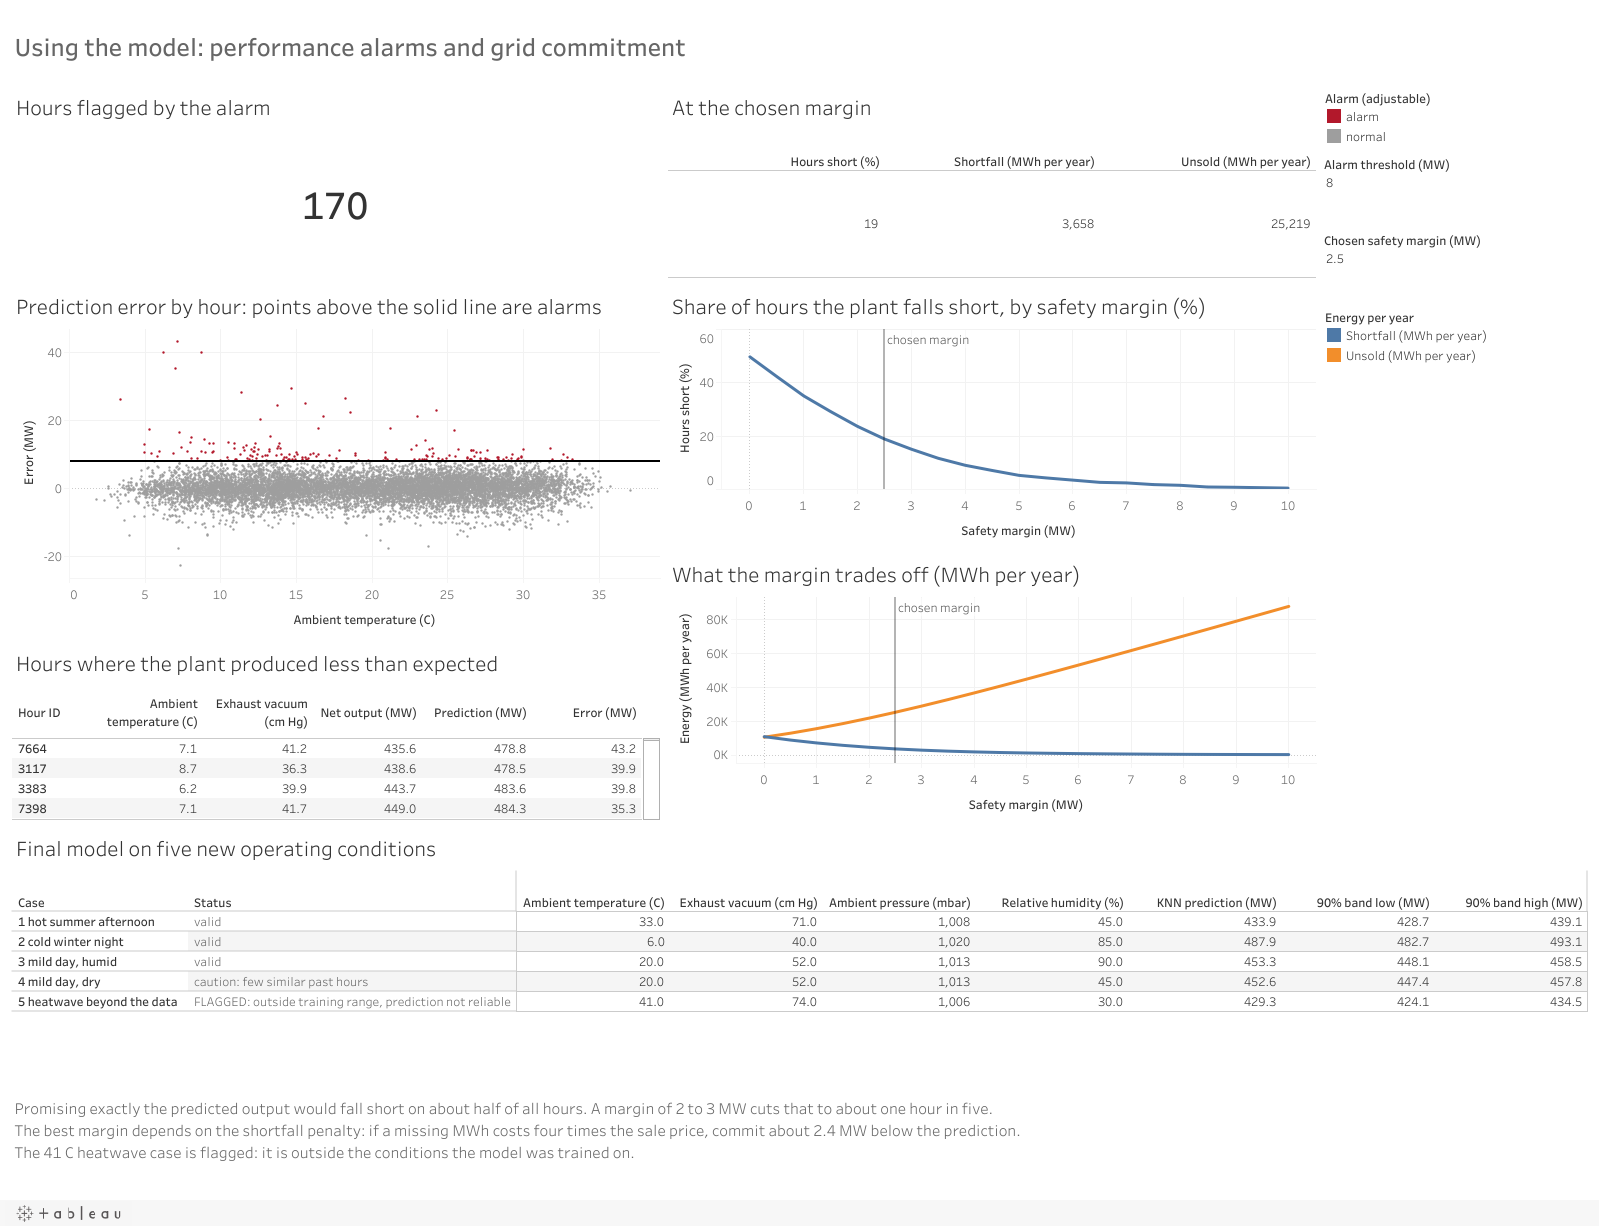

The dashboard page shown, as its layout file describes it:
{"tool":"tableau","page":{"name":"Decision support","canvas":[1600,1200],"ordinal":0},"visuals":[{"type":"text","box":[8,8,1584,75.2]},{"type":"worksheet","title":"KPI alarm hours","mark":"Automatic","box":[8,83.2,656,199.2]},{"type":"worksheet","title":"Margin KPI","mark":"Automatic","box":[664,83.2,656,199.2]},{"type":"legend","title":"Error vs temperature","param":"[federated.0cw6bld19u7vyt1air5vq1tj6jl8].[none:Calculation_0263118111055873:nk]","box":[1320,83.2,272,66]},{"type":"parameter","param":"[Parameters].[Parameter 0263118110720000]","box":[1320,149.2,272,75]},{"type":"parameter","param":"[Parameters].[Parameter 0263118112350211]","box":[1320,224.2,272,75]},{"type":"worksheet","title":"Error vs temperature","mark":"Circle","rows":["Error (MW)"],"cols":["Ambient temperature (C)"],"box":[8,282.5,656,356.3]},{"type":"worksheet","title":"Margin risk","mark":"Line","rows":["Hours short (%)"],"cols":["Safety margin (MW)"],"box":[664,282.5,656,267.5]},{"type":"legend","title":"Margin energy","param":"[federated.1euyxsw1q097m11c5ndab16okjao].[:Measure Names]","box":[1320,299.2,272,66]},{"type":"worksheet","title":"Margin energy","mark":"Line","cols":["Safety margin (MW)"],"box":[664,550,656,274]},{"type":"worksheet","title":"Alarm hours table","mark":"Automatic","rows":["Hour ID"],"box":[8,638.8,656,185.2]},{"type":"worksheet","title":"Unseen cases","mark":"Automatic","rows":["Case","status"],"box":[8,824,1584,243.7]},{"type":"text","box":[8,1067.7,1584,124.3]}]}

Visuals, with their boxes on the page's 1600x1200 design canvas (x1, y1, x2, y2). These are canvas units, not pixel positions in the 1599x1226 screenshot, which may show the page scaled, cropped or inside an application window:
text: select_region(8, 8, 1592, 83)
"KPI alarm hours" worksheet: select_region(8, 83, 664, 282)
"Margin KPI" worksheet: select_region(664, 83, 1320, 282)
"Error vs temperature" legend: select_region(1320, 83, 1592, 149)
parameter: select_region(1320, 149, 1592, 224)
parameter: select_region(1320, 224, 1592, 299)
"Error vs temperature" worksheet (Circle marks): select_region(8, 282, 664, 639)
"Margin risk" worksheet (Line marks): select_region(664, 282, 1320, 550)
"Margin energy" legend: select_region(1320, 299, 1592, 365)
"Margin energy" worksheet (Line marks): select_region(664, 550, 1320, 824)
"Alarm hours table" worksheet: select_region(8, 639, 664, 824)
"Unseen cases" worksheet: select_region(8, 824, 1592, 1068)
text: select_region(8, 1068, 1592, 1192)
